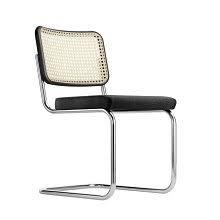chair: (22, 19, 186, 208)
